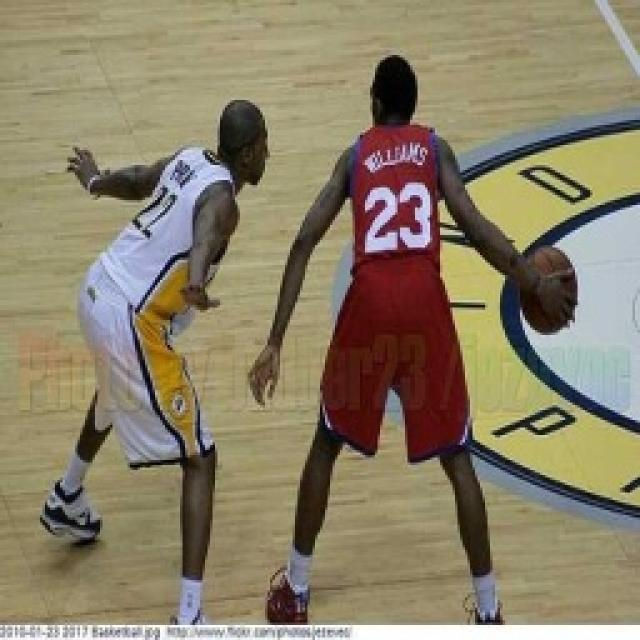basketball: (514, 246, 578, 335)
